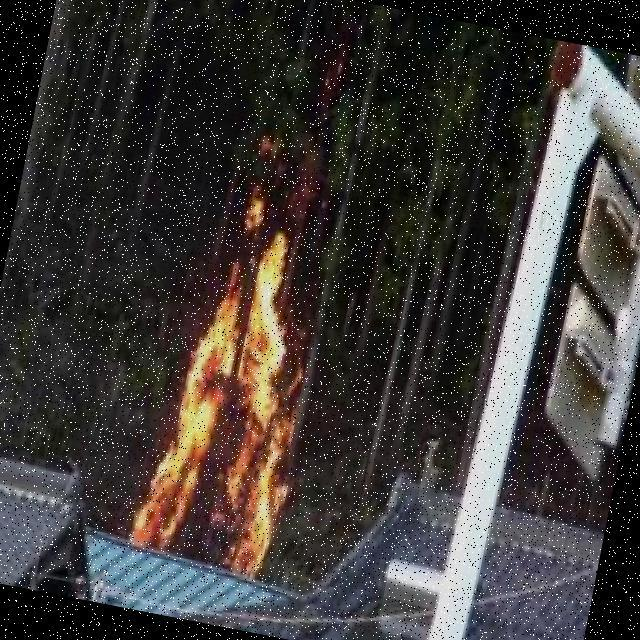Fire: (121, 176, 351, 572)
